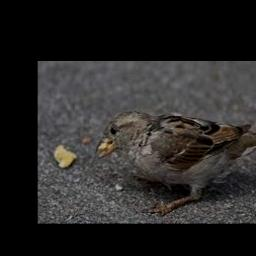Sparrow: (94, 111, 256, 215)
